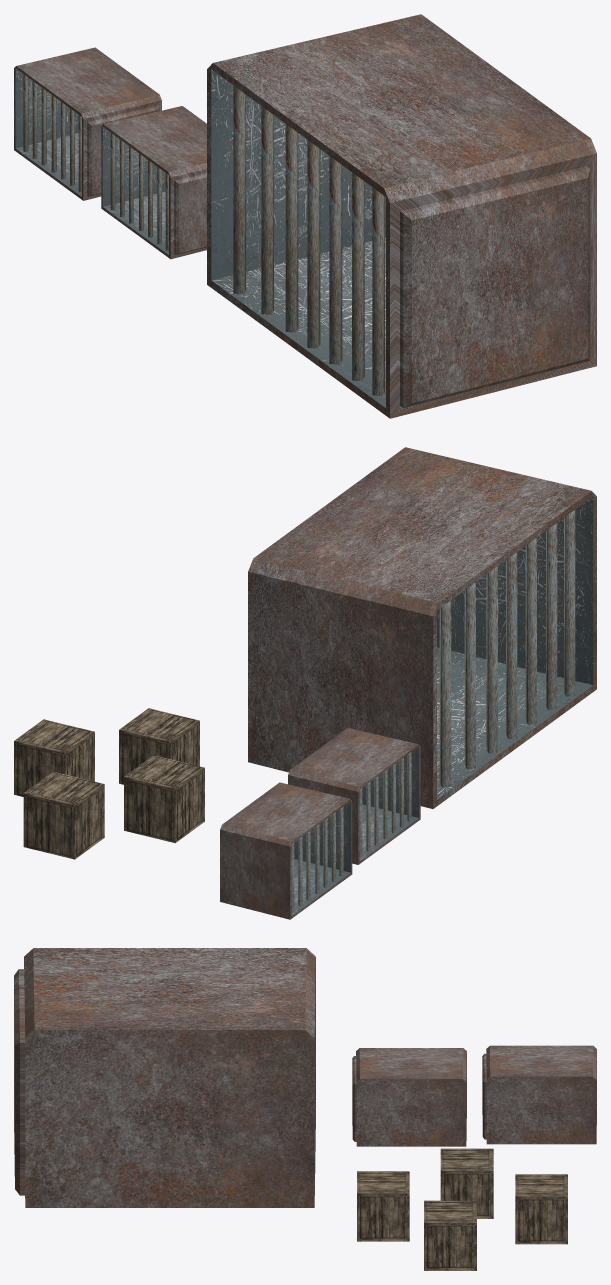
Rendered from Cages.FBX.
3 views of the same model, one above another, from view 1: azimuth 30°, elevation 25°; view 2: azimuth 150°, elevation 25°; view 3: azimuth 270°, elevation 25° (orthographic). The views are drawn at different scales.
Parts seen in each view (by area): view 1: Object001, Box004, Box001; view 2: Object001, Box004, Box001, Box005, Box007, Box003, Box006; view 3: Object001, Box004, Box001, Box003, Box005, Box006, Box007.
Boxes of the visible parts, box(x1,y1,x2,y2) form: Object001: box(207, 14, 596, 418); Box004: box(14, 47, 161, 200); Box001: box(101, 106, 206, 259); Object001: box(248, 447, 596, 808); Box004: box(220, 782, 352, 919); Box001: box(288, 728, 420, 864); Box005: box(23, 771, 104, 859); Box007: box(124, 755, 204, 843); Box003: box(14, 719, 94, 796); Box006: box(119, 708, 199, 784); Object001: box(14, 948, 315, 1207); Box004: box(482, 1045, 596, 1144); Box001: box(352, 1048, 466, 1146); Box003: box(424, 1200, 476, 1270); Box005: box(515, 1174, 567, 1244); Box006: box(357, 1171, 409, 1241); Box007: box(440, 1148, 493, 1218).
Size of the model in its own units: 100 by 56.43 by 165.
Materials: 1 (1 with a texture image).
